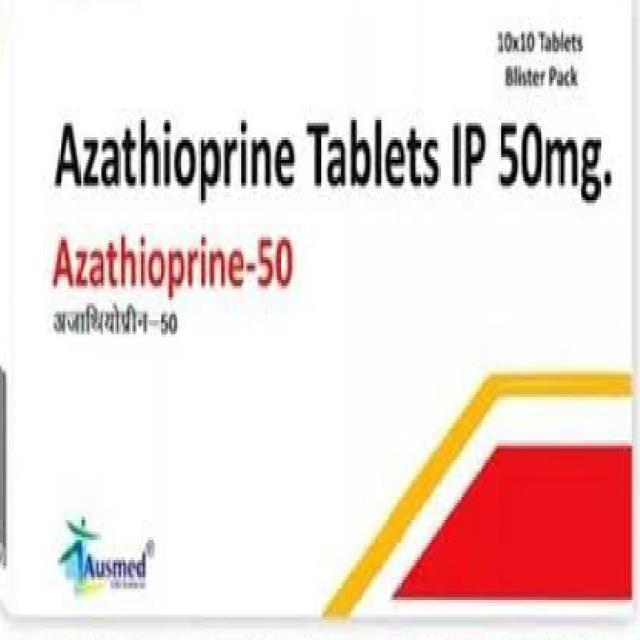drug-name: (49, 225, 296, 298)
